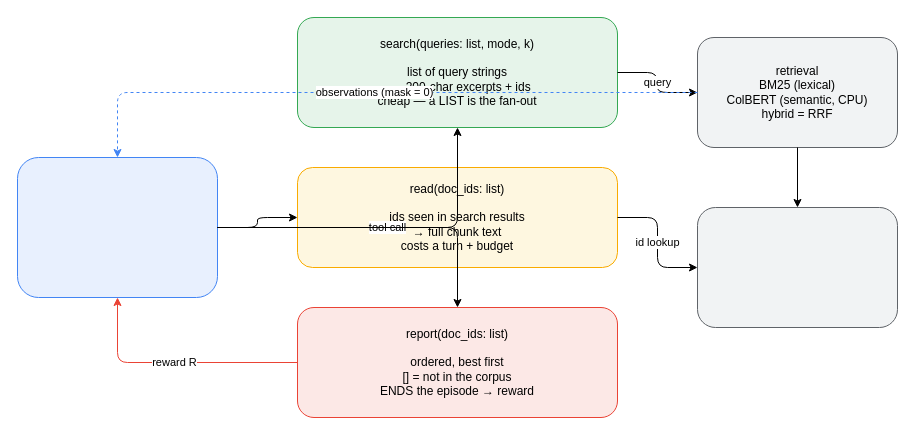
Image size: 915x435. Some labels were removed from this diagram. Here are the shapes that lost their labels. From the top down, the centre of each, then its label:
At point 117,227: "the agent Qwen3-1.7B + LoRA sees only the question and observations".
At point 797,267: "corpus 3785 chunks breadcrumbs + TOC chunks ids randomised per episode".
